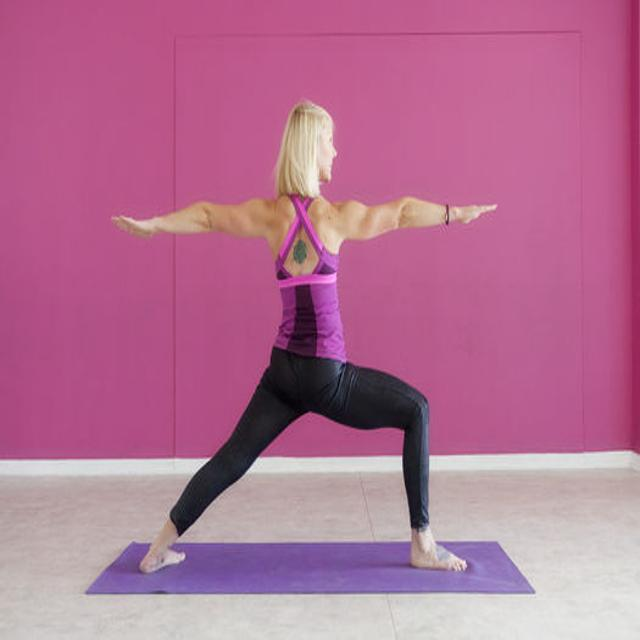Warrior_II: (113, 99, 503, 576)
